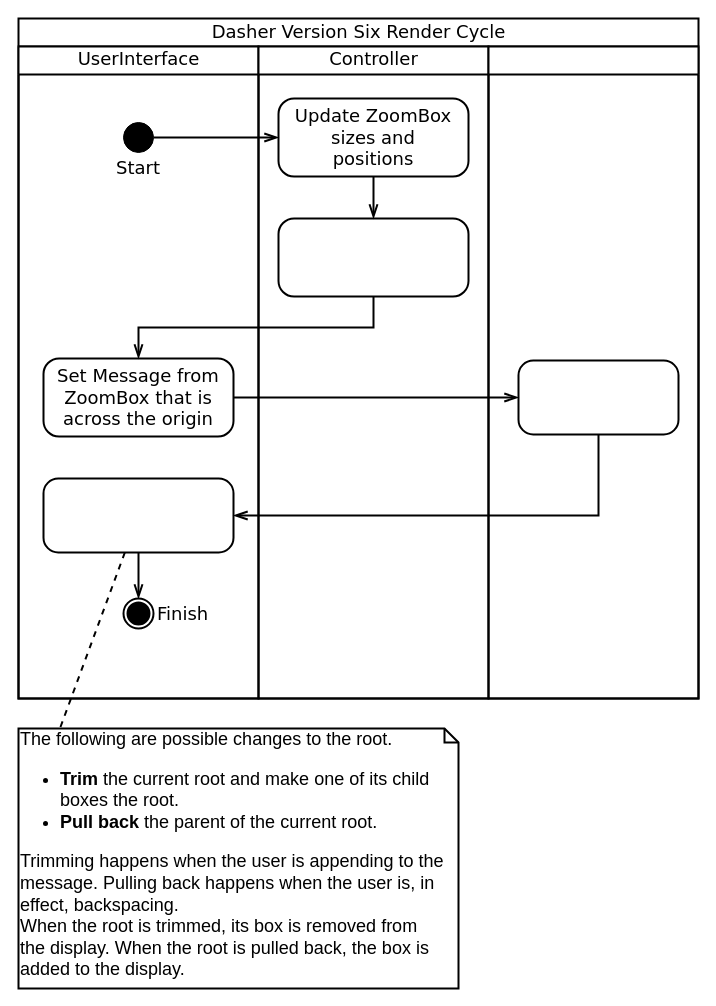
Some shapes in this 716 by 1006 pixel diagram are drawn without their labels. The shapes that lost their labels are listed below. From the top down, each one's box as (x1, y1, x2, y2) in pixels, then its label:
(277, 217, 469, 297): Spawn or delete at the right, top, and bottom
(487, 45, 699, 699): Viewer
(517, 359, 679, 435): Update ZoomBox display
(42, 477, 234, 553): Change root ZoomBox at the left
